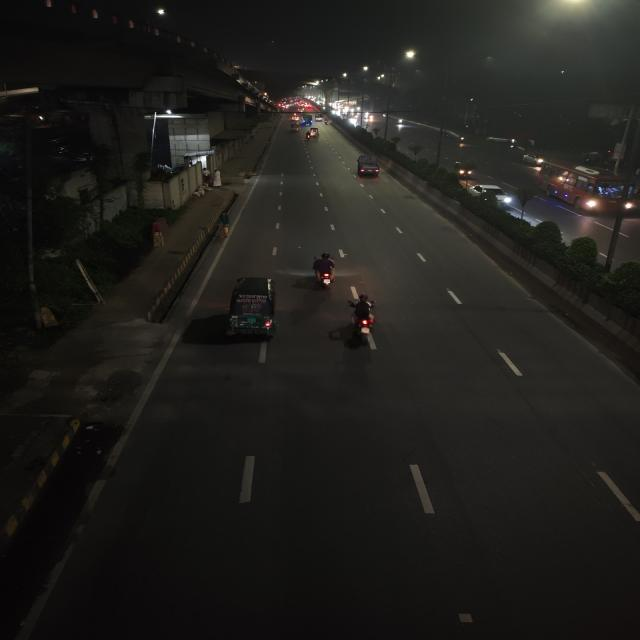bus: (539, 166, 639, 216)
car: (468, 181, 516, 210)
cng: (214, 274, 284, 344), (307, 127, 319, 139)
motorcycle: (342, 292, 387, 344), (308, 252, 340, 292), (452, 160, 477, 180), (525, 152, 547, 166), (456, 133, 470, 147), (395, 119, 405, 128)
pickup_van: (353, 153, 383, 179)
